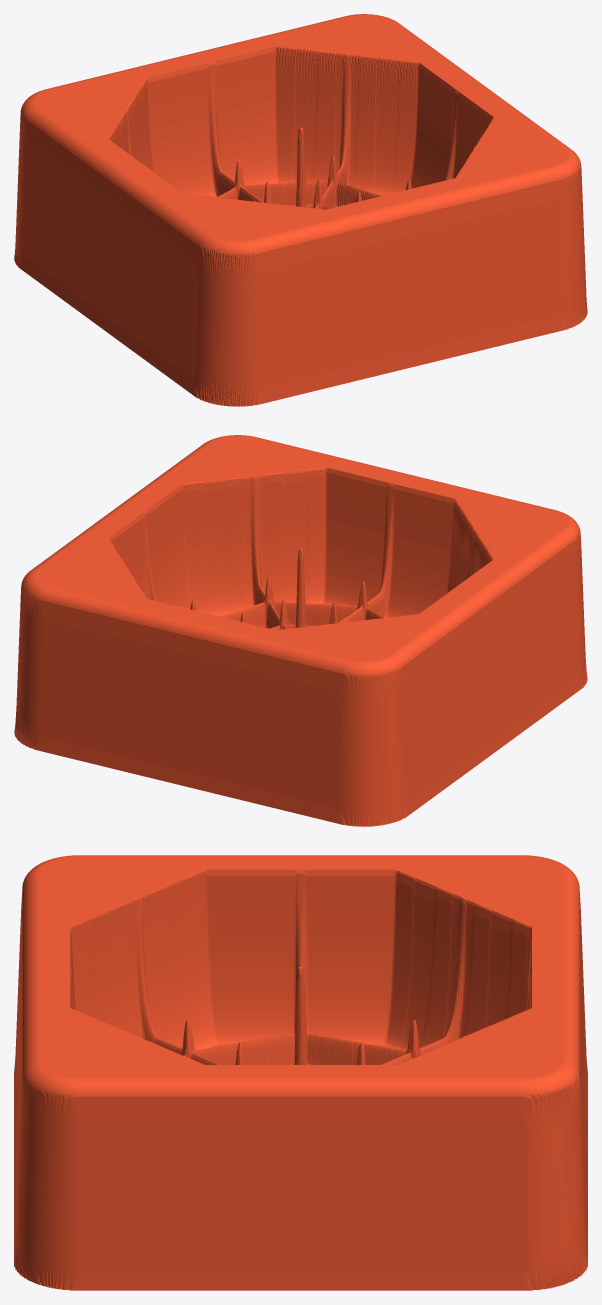
The model's file is mold.glb.
3 renders of one model, top to bottom at view 1: azimuth 30°, elevation 25°; view 2: azimuth 150°, elevation 25°; view 3: azimuth 270°, elevation 25°, orthographic. The views are drawn at different scales.
Parts seen in each view (by area): view 1: geometry_0; view 2: geometry_0; view 3: geometry_0.
Boxes of the visible parts, bbox=[...] form: geometry_0: bbox=[14, 14, 587, 406]; geometry_0: bbox=[14, 435, 587, 826]; geometry_0: bbox=[14, 855, 587, 1290].
Size of the model in its own units: 0.0798 by 0.031 by 0.0798.
